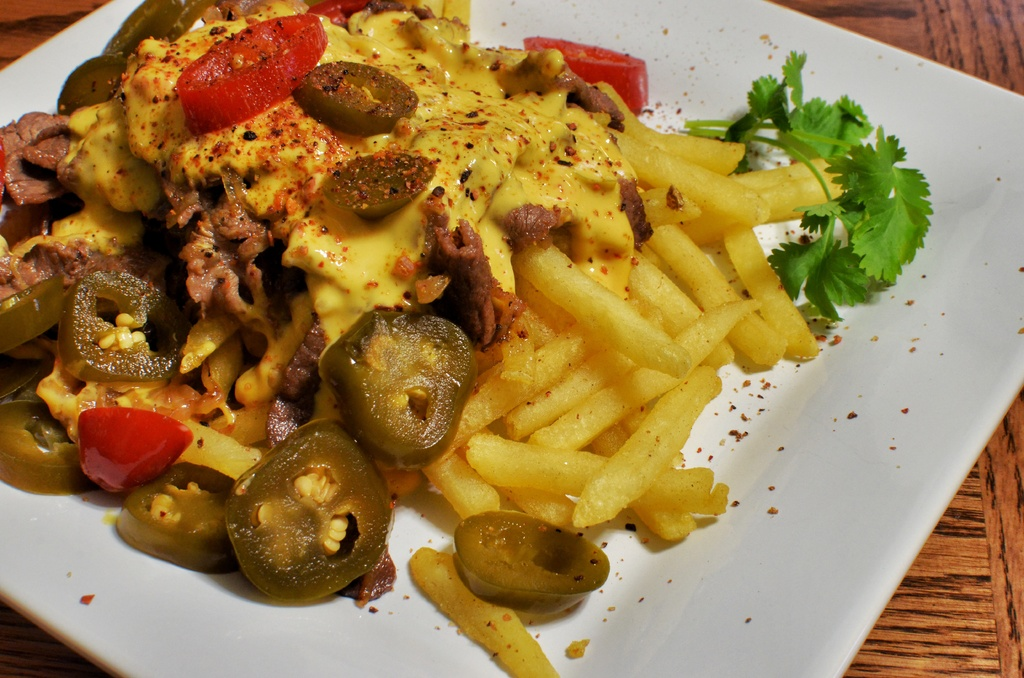French fries: (424, 120, 812, 562)
